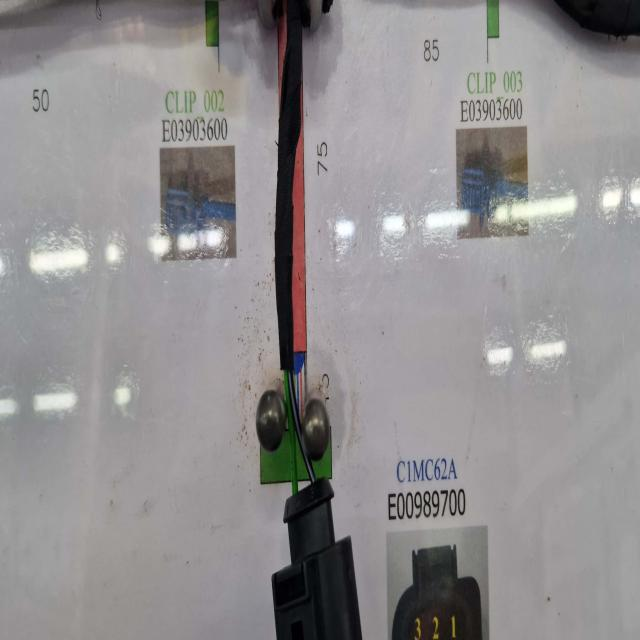Connector: (271, 478, 361, 640)
Gape: (281, 356, 305, 492)
MHEV_N11_Cable: (275, 0, 304, 375)
